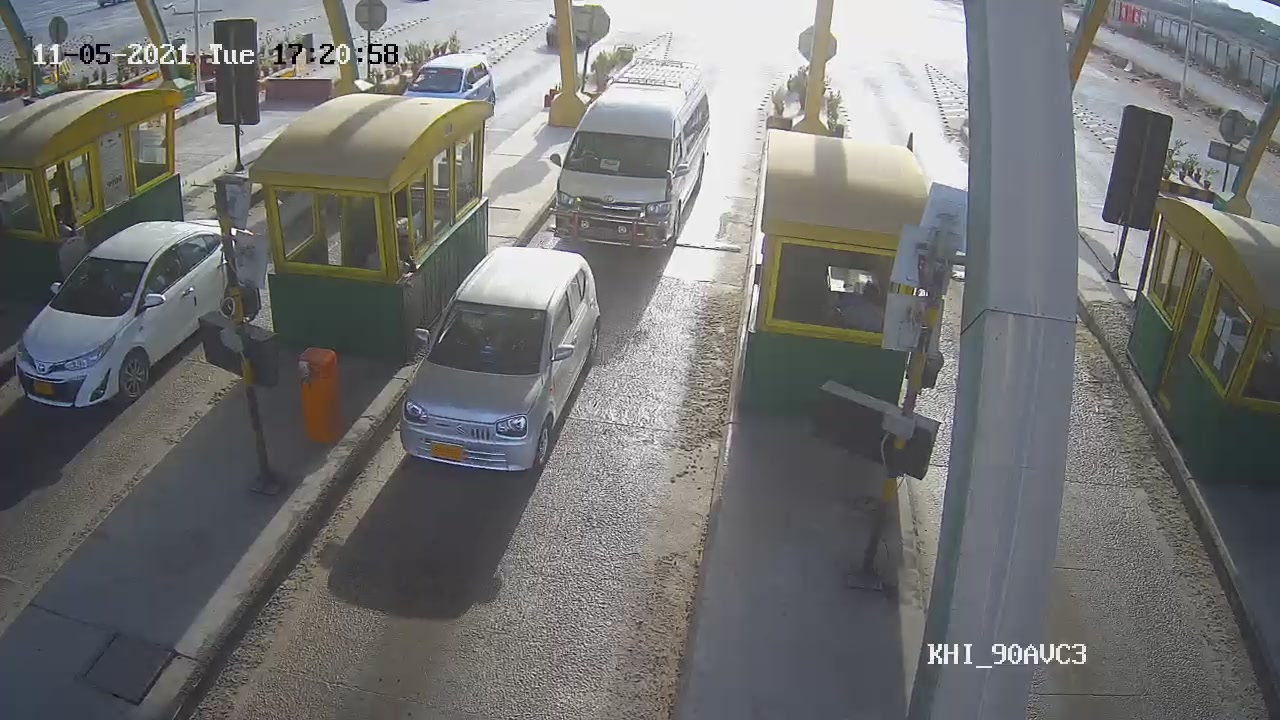F1: (391, 233, 607, 478)
F2: (552, 57, 715, 254)
